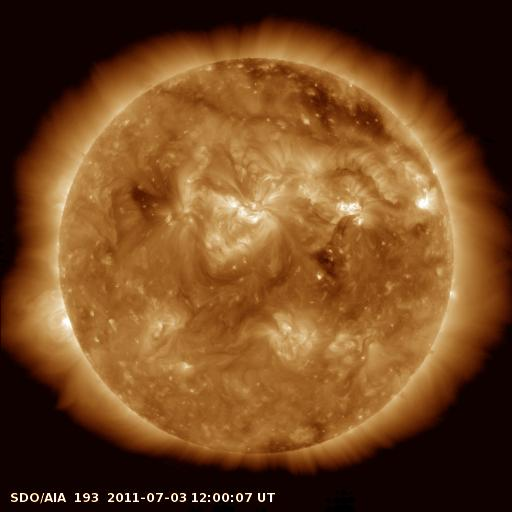coronal_hole: (213, 57, 386, 135), (123, 179, 162, 221), (311, 242, 342, 281)
